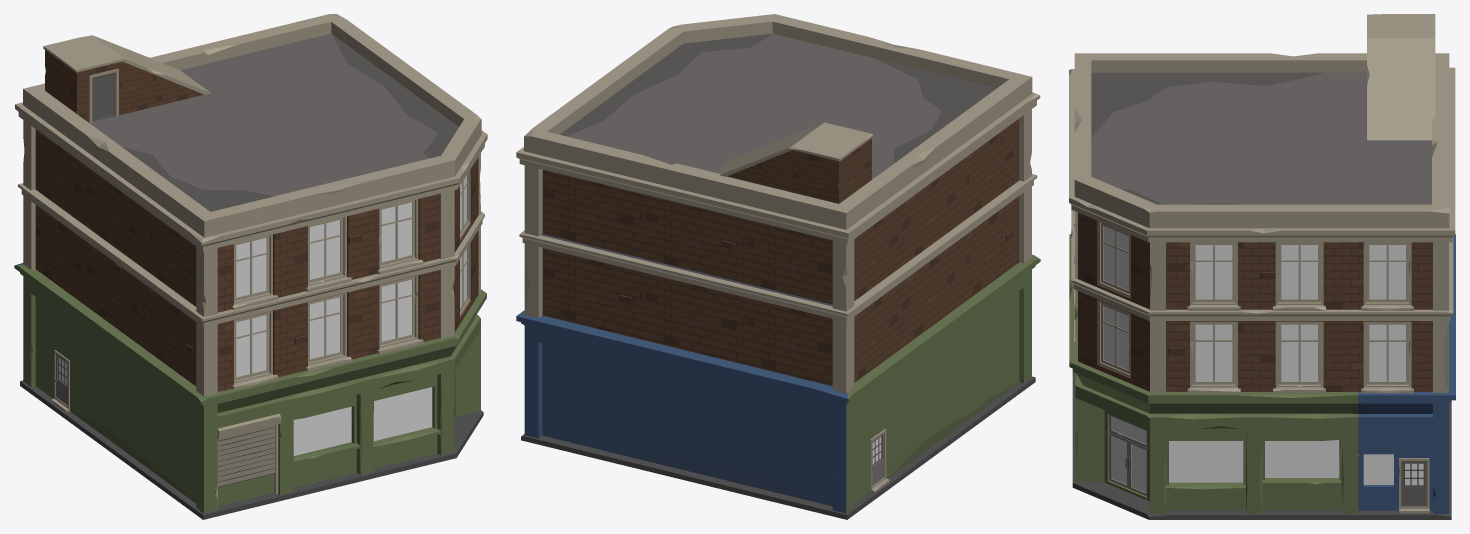
The model's file is SM_Bldg_City_Shop_01.fbx.
3 renders of one model, left to right at view 1: azimuth 30°, elevation 25°; view 2: azimuth 150°, elevation 25°; view 3: azimuth 270°, elevation 25°, orthographic. The views are drawn at different scales.
Visible parts, largest first — view 1: SM_Bldg_City_Shop_01, SM_Bldg_City_Shop_01_Glass; view 2: SM_Bldg_City_Shop_01; view 3: SM_Bldg_City_Shop_01, SM_Bldg_City_Shop_01_Glass.
Part boxes in pixels (box(x1,y1,x2,y2)): SM_Bldg_City_Shop_01: box(14, 14, 487, 519); SM_Bldg_City_Shop_01_Glass: box(236, 175, 466, 455); SM_Bldg_City_Shop_01: box(516, 14, 1040, 519); SM_Bldg_City_Shop_01: box(1069, 14, 1455, 519); SM_Bldg_City_Shop_01_Glass: box(1103, 226, 1405, 484).
Size of the model in its own units: 1448 by 1460 by 1448.
